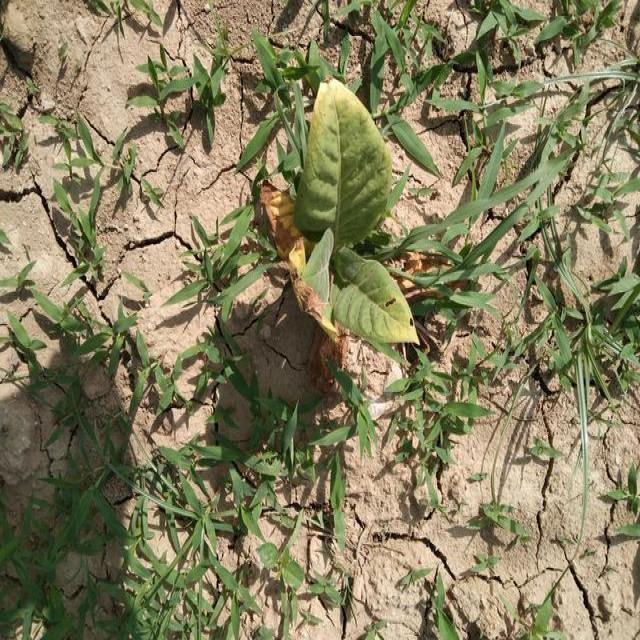crop: (288, 70, 432, 379)
